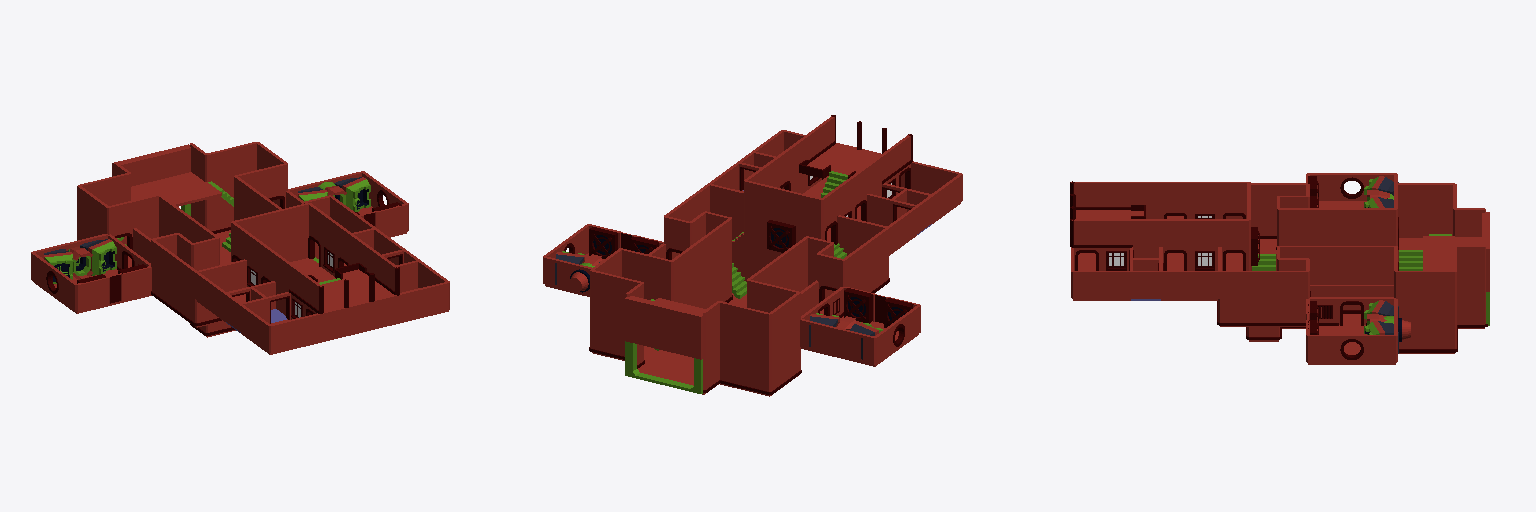
Rendered from GreebusInterior.obj.
The picture shows the model from 3 angles: view 1: azimuth 30°, elevation 25°; view 2: azimuth 150°, elevation 25°; view 3: azimuth 270°, elevation 25°; orthographic projection.
Visible parts, largest first — view 1: mergedBlocks; view 2: mergedBlocks; view 3: mergedBlocks.
Part boxes in pixels (left/top/right/bottom): mergedBlocks: left=31, top=142, right=449, bottom=354; mergedBlocks: left=543, top=115, right=962, bottom=396; mergedBlocks: left=1070, top=173, right=1489, bottom=364.
Bounding box in the file's own units: 13.15 × 4.1 × 14.3.